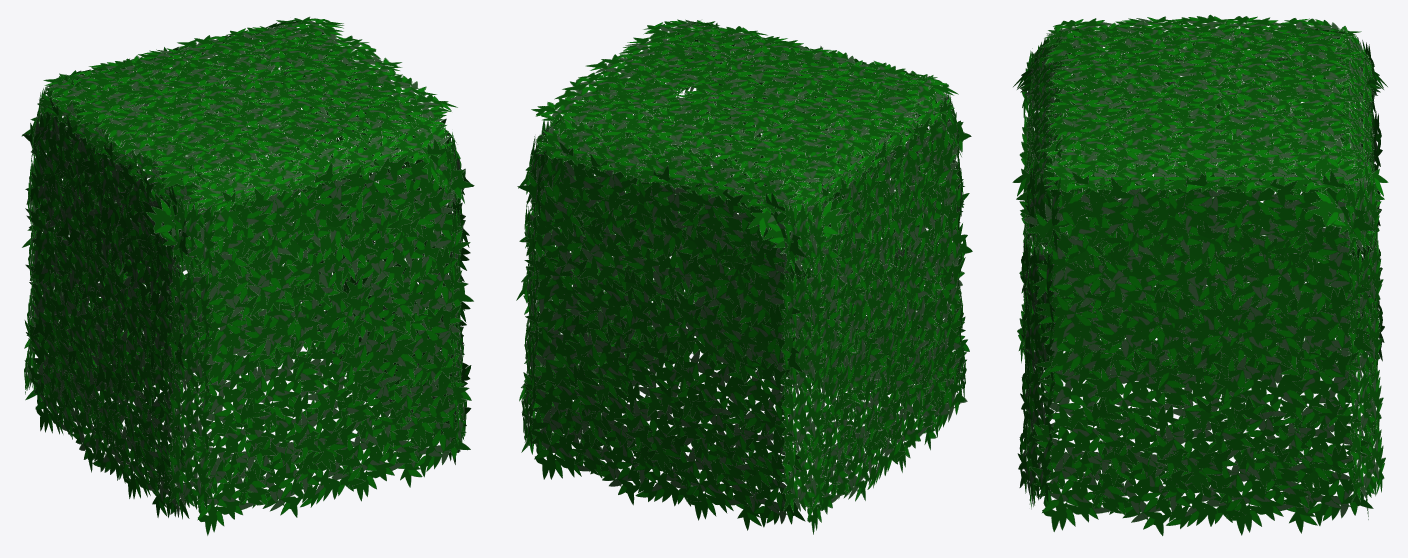
File: wall01_2.fbx
3 views of the same model, side by side, from view 1: azimuth 30°, elevation 25°; view 2: azimuth 150°, elevation 25°; view 3: azimuth 270°, elevation 25° (orthographic). The views are drawn at different scales.
Visible parts, largest first — view 1: group2_plane24, group1_plane13, plane24, group8_plane37, plane37, group4_plane24, group12_plane37, group3_plane24, group9_plane37, plane38, group7_plane37, plane39; view 2: group4_plane24, group1_plane13, plane24, group7_plane37, group11_plane37, group2_plane24, group12_plane37, group3_plane24, group6_plane37, plane41, group8_plane37; view 3: group3_plane24, plane24, group6_plane37, group9_plane37, group10_plane37, group1_plane13, group11_plane37, plane37, plane39, plane40, group2_plane24, group8_plane37 (+2 smaller).
Part boxes in pixels (x1,y1,x2,y2): group2_plane24: (186, 138, 474, 535); group1_plane13: (22, 97, 189, 519); plane24: (43, 16, 457, 188); group8_plane37: (168, 199, 216, 509); plane37: (191, 115, 453, 213); group4_plane24: (21, 35, 301, 408); group12_plane37: (37, 73, 206, 213); group3_plane24: (312, 32, 473, 464); group9_plane37: (444, 132, 466, 447); plane38: (146, 167, 244, 271); group7_plane37: (24, 86, 47, 394); plane39: (416, 115, 464, 203); group4_plane24: (517, 141, 806, 530); group1_plane13: (804, 96, 972, 534); plane24: (531, 19, 958, 193); group7_plane37: (781, 197, 826, 512); group11_plane37: (535, 117, 805, 217); group2_plane24: (687, 23, 971, 416); group12_plane37: (784, 75, 954, 214); group3_plane24: (516, 31, 680, 454); group6_plane37: (521, 136, 546, 450); plane41: (747, 170, 847, 273); group8_plane37: (946, 94, 966, 400); group3_plane24: (1024, 170, 1376, 535); plane24: (1036, 14, 1365, 176); group6_plane37: (1344, 171, 1385, 502); group9_plane37: (1017, 167, 1061, 503); group10_plane37: (1044, 145, 1358, 192); group1_plane13: (1034, 26, 1362, 390); group11_plane37: (1340, 27, 1373, 185); plane37: (1030, 28, 1063, 186); plane39: (1012, 146, 1092, 249); plane40: (1308, 146, 1388, 249); group2_plane24: (1023, 48, 1035, 509); group8_plane37: (1017, 42, 1052, 363).
Bounding box in the file's own units: 11.69 × 12.85 × 11.52.
1 material, 1 textured.
